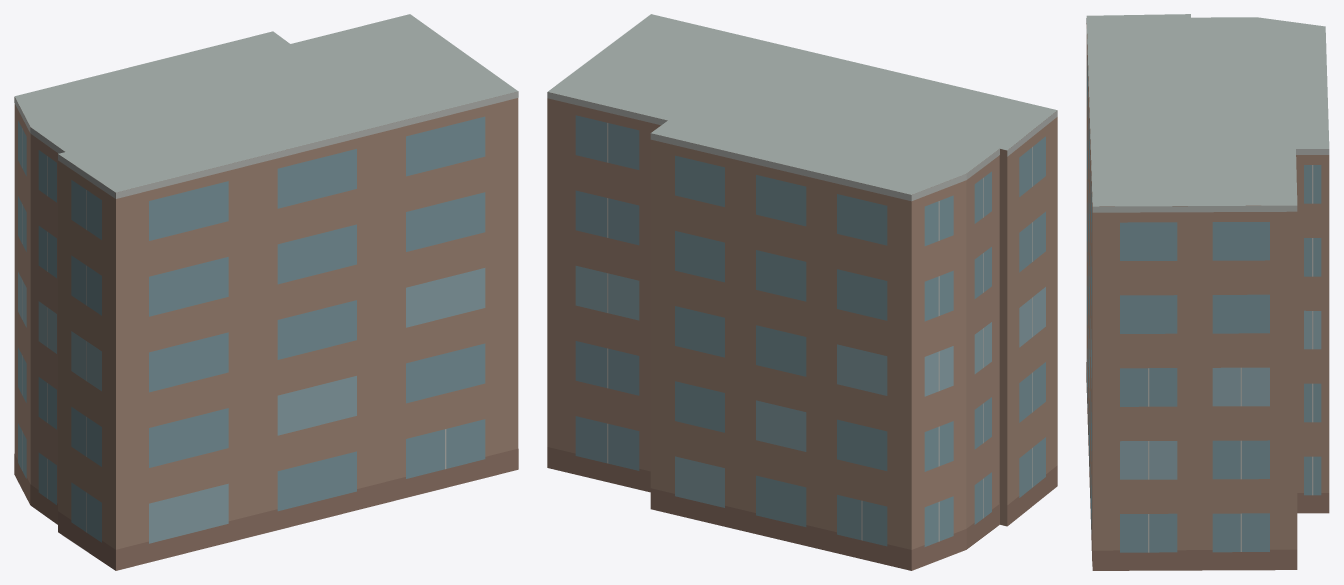
Rendered from survey-upis-32874042.glb.
3 views of the same model, side by side, from view 1: azimuth 30°, elevation 25°; view 2: azimuth 150°, elevation 25°; view 3: azimuth 270°, elevation 25° (orthographic). The views are drawn at different scales.
Parts seen in each view (by area): view 1: survey-upis-32874042.tmp; view 2: survey-upis-32874042.tmp; view 3: survey-upis-32874042.tmp.
Boxes of the visible parts, box(x1,y1,x2,y2) form: survey-upis-32874042.tmp: box(14, 14, 518, 570); survey-upis-32874042.tmp: box(547, 14, 1057, 570); survey-upis-32874042.tmp: box(1086, 14, 1329, 570).
Size of the model in its own units: 16.21 by 14.3 by 8.65.
